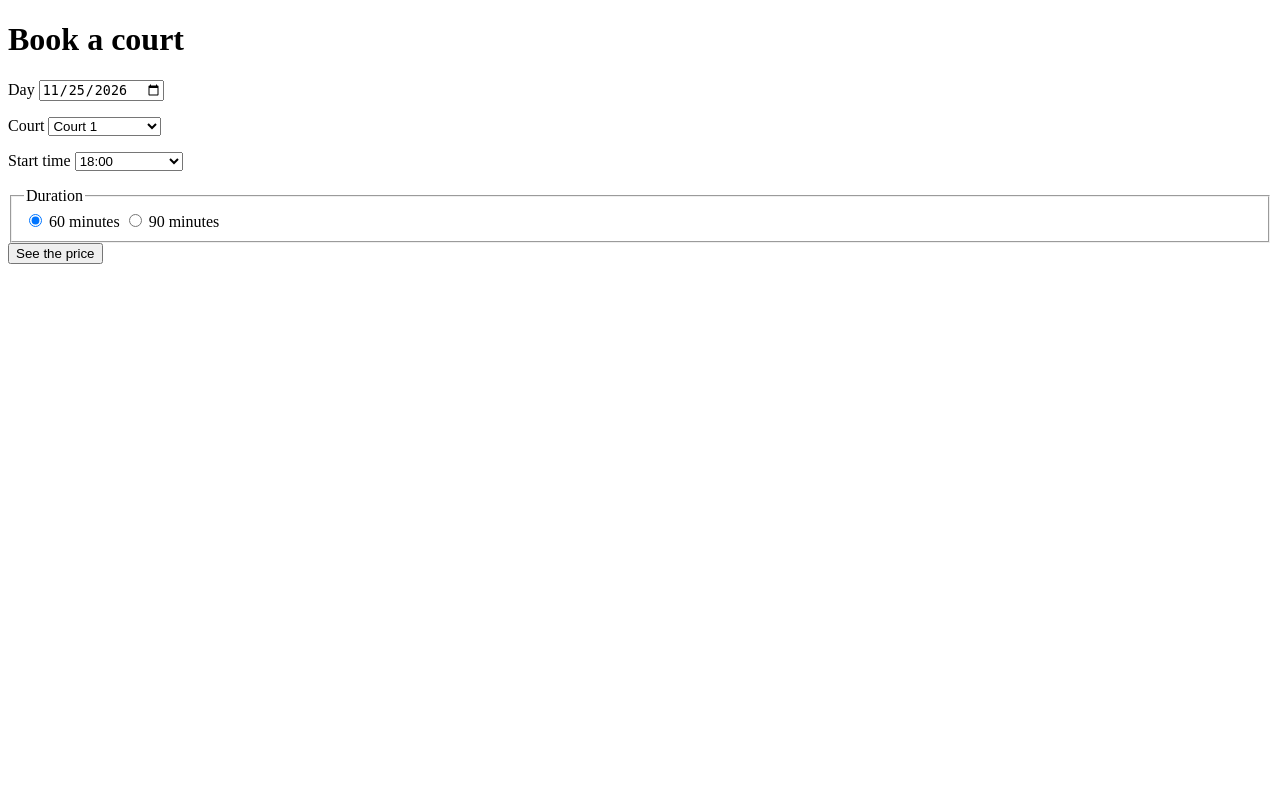
it: Book a court page › shows the message when the equipment is no longer available
This screenshot has width=1280, height=800.
Click the radio button labelled "90 minutes" at (135, 220), box [129,214,142,227]
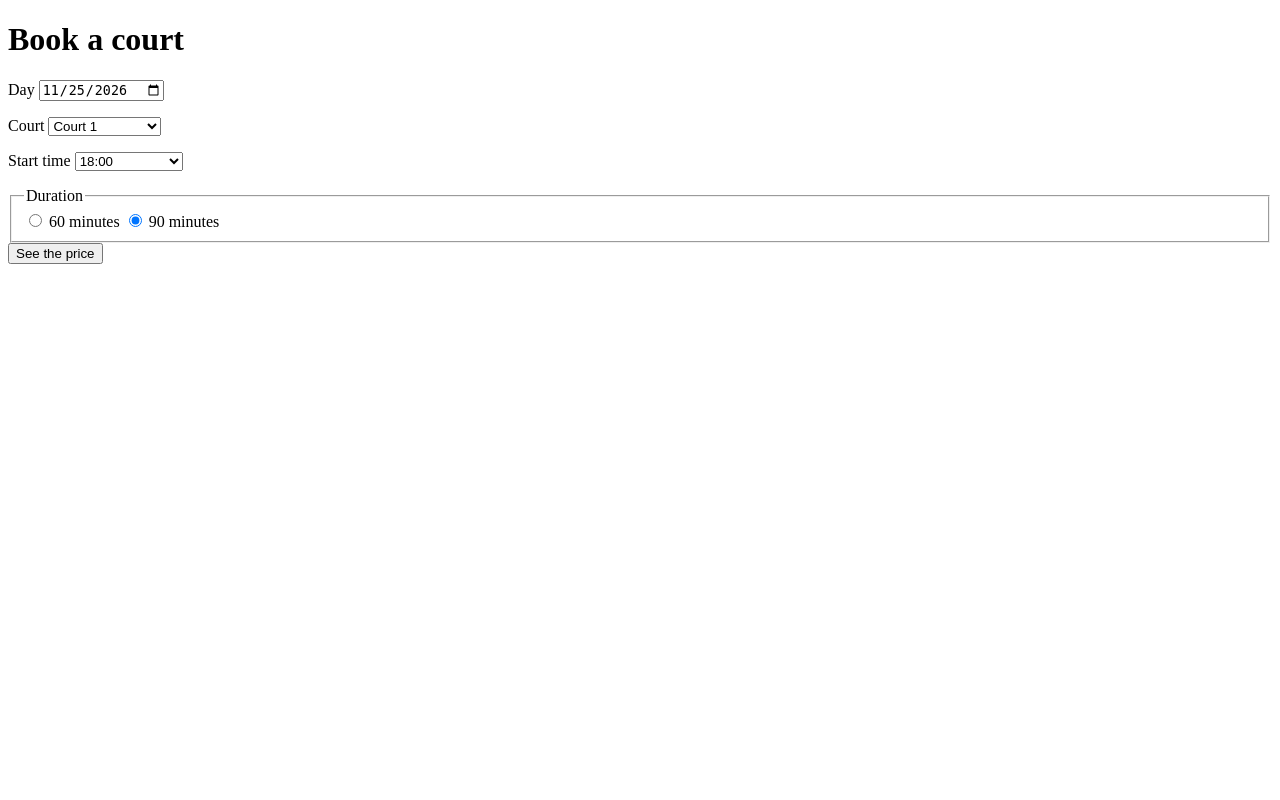
Click the button "See the price" at (55, 253), box [8,243,102,264]
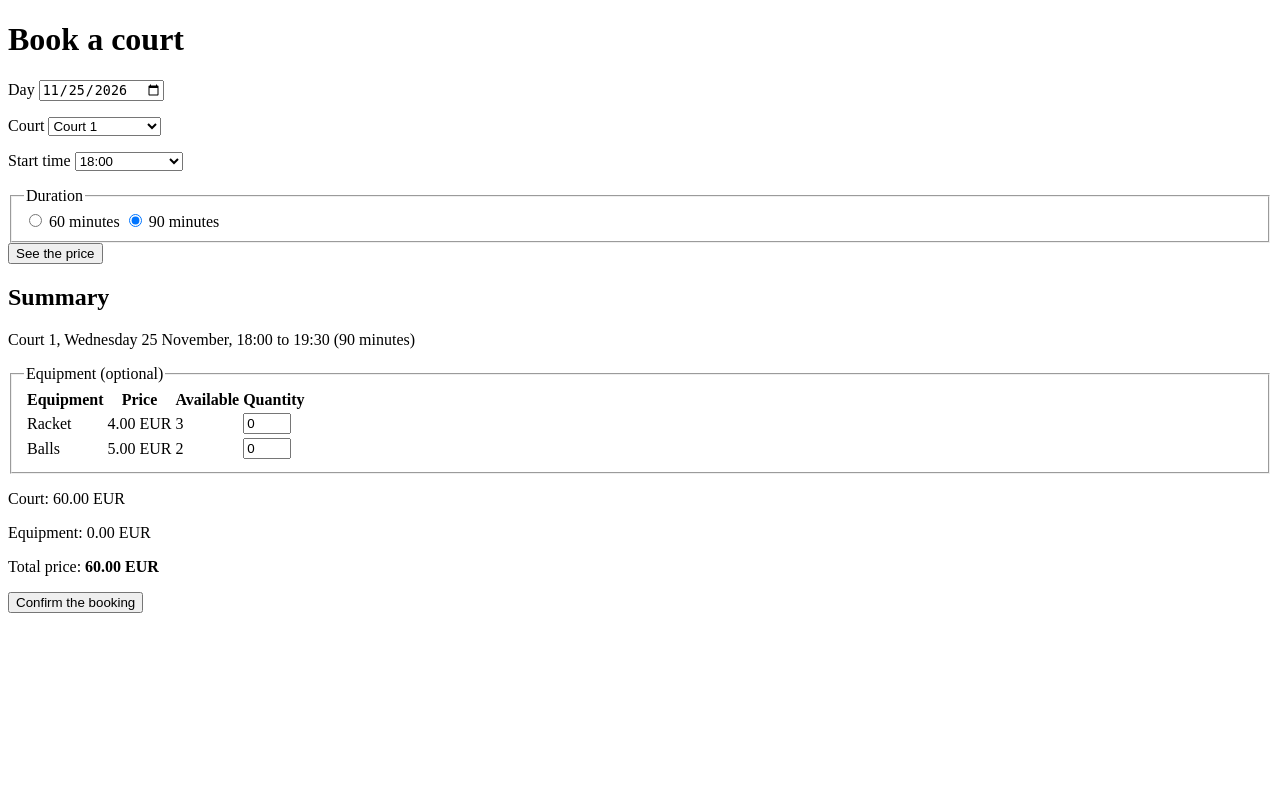
Replace the text in the number field named "Racket quantity" with "3" at (267, 424), box [243,413,291,434]
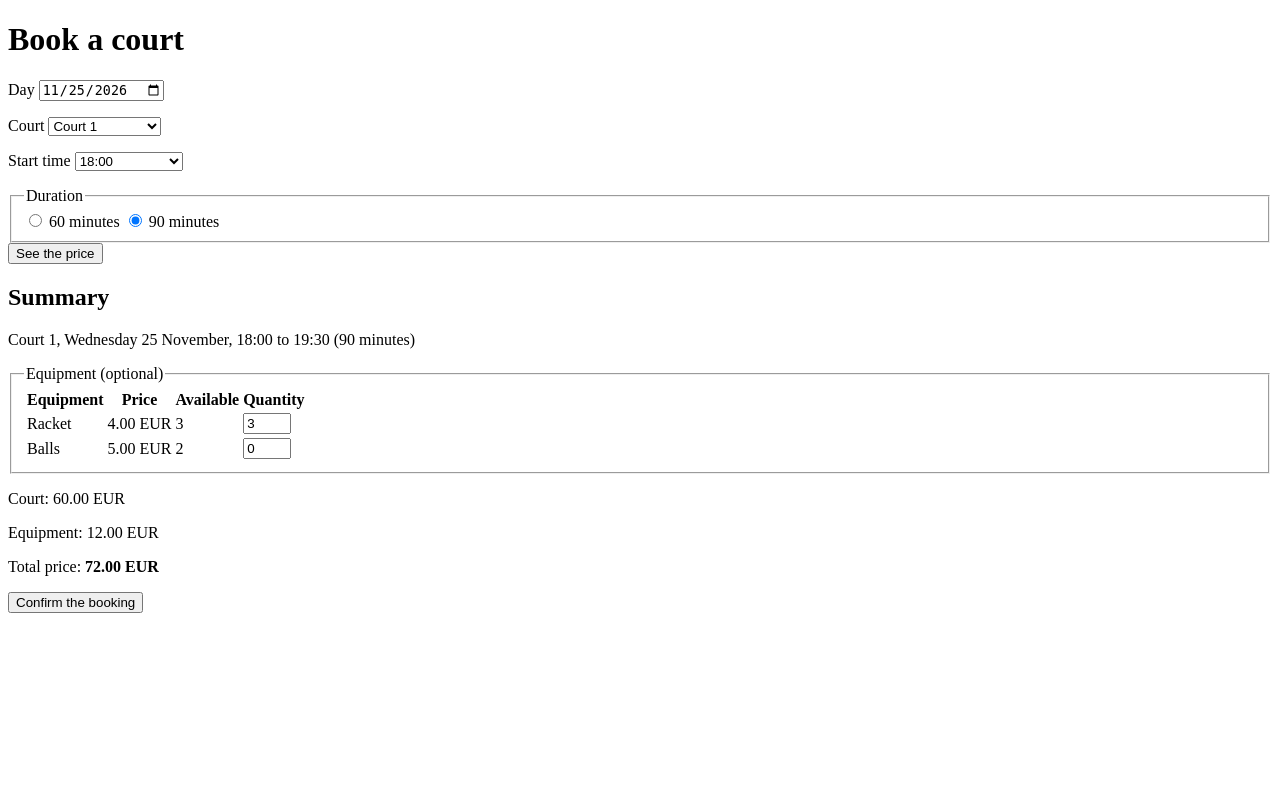
Click the button "Confirm the booking" at (76, 603), box [8,592,143,613]
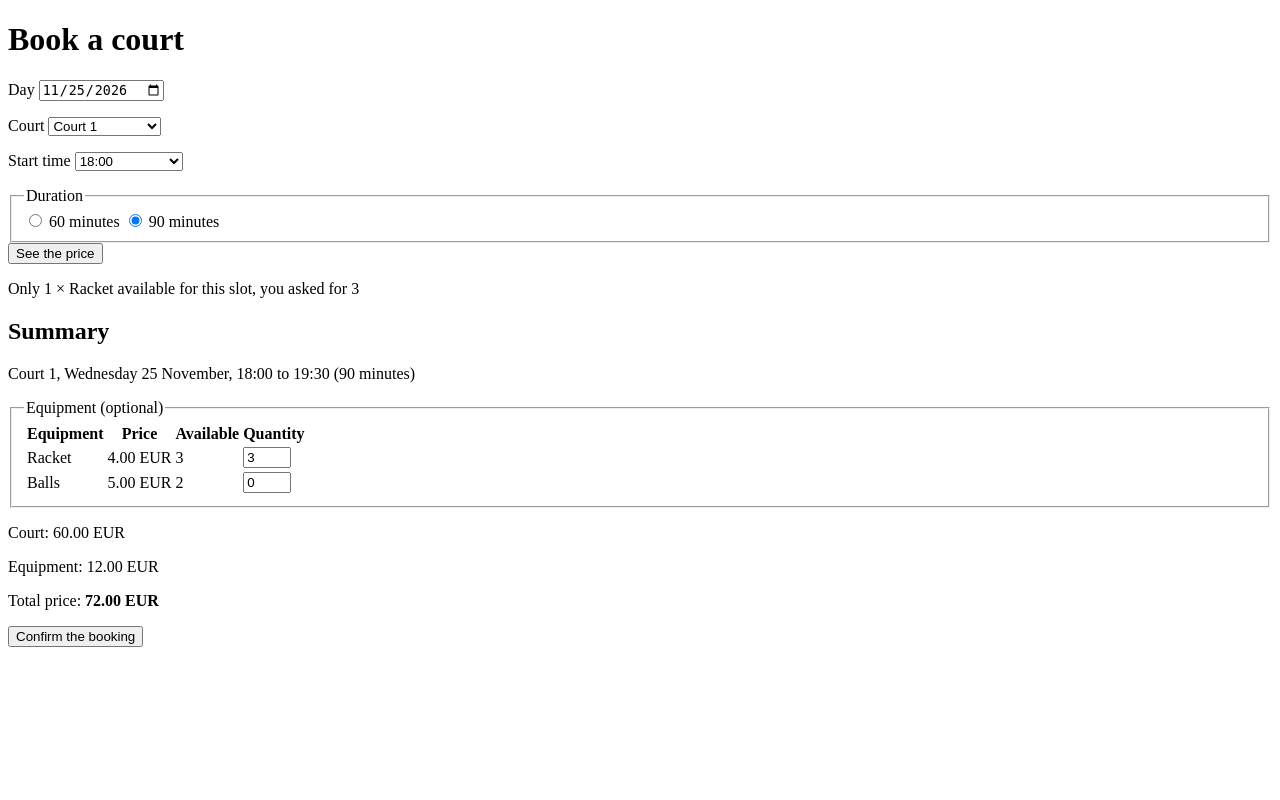
Expected: the element "Summary" is shown, [8,318,1272,647]
Expected: the message reads "Only 1 × Racket available for this slot, you asked for 3", [8,280,359,297]
